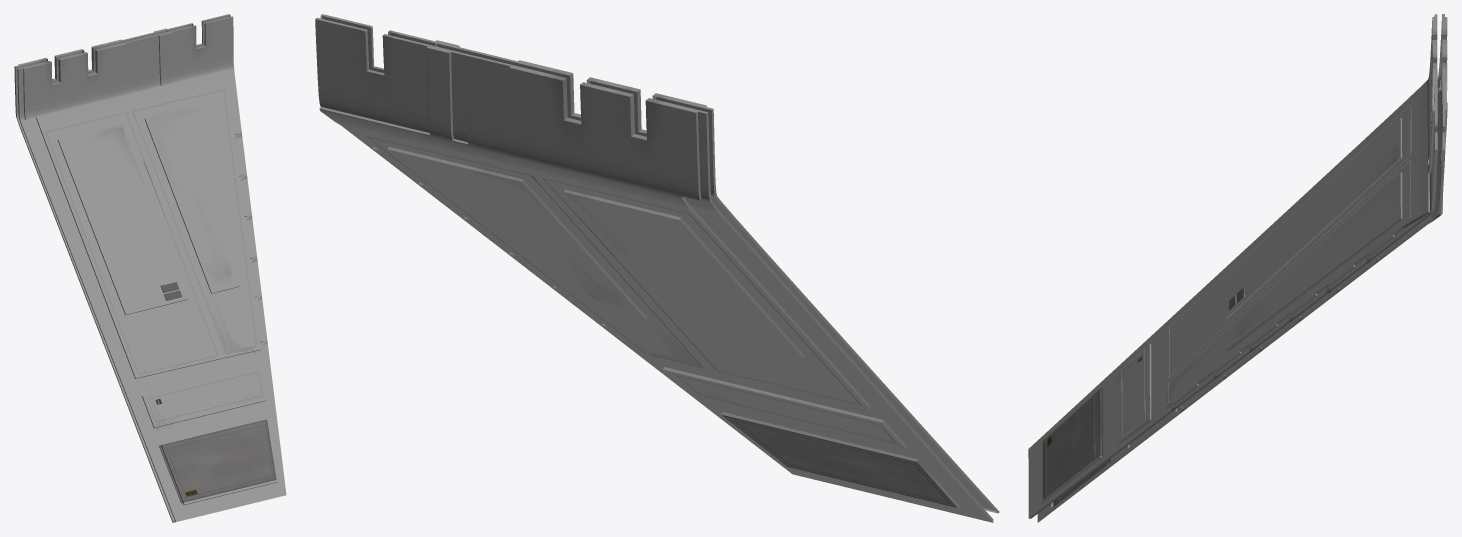
Rendered from aladerecha.fbx.
The picture shows the model from 3 angles, left to right: view 1: azimuth 30°, elevation 25°; view 2: azimuth 150°, elevation 25°; view 3: azimuth 270°, elevation 25°; orthographic projection. The views are drawn at different scales.
Parts seen in each view (by area): view 1: aladerecha; view 2: aladerecha; view 3: aladerecha.
Boxes of the visible parts, x1,y1,x2,y2 form: aladerecha: (14,14,286,522); aladerecha: (315,14,999,522); aladerecha: (1028,14,1447,522).
Size of the model in its own units: 49.32 by 74.71 by 64.55.
